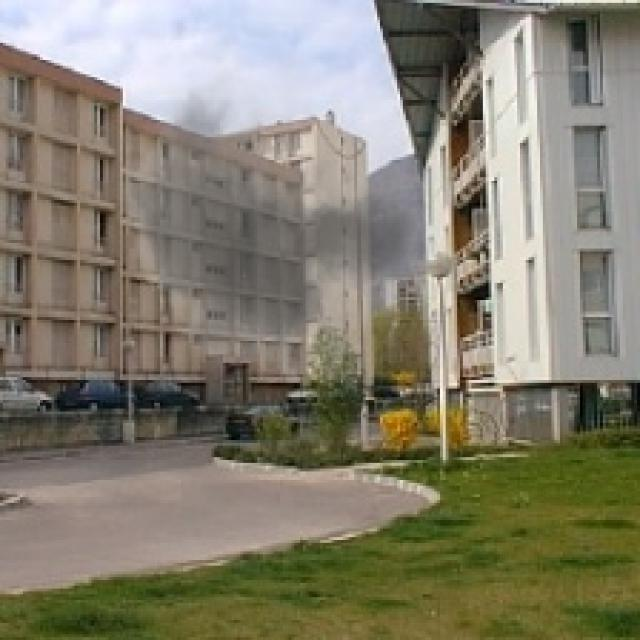Smoke: (103, 23, 446, 403)
